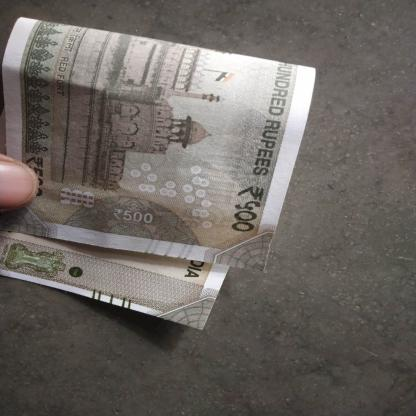New500Back: (22, 26, 278, 260)
